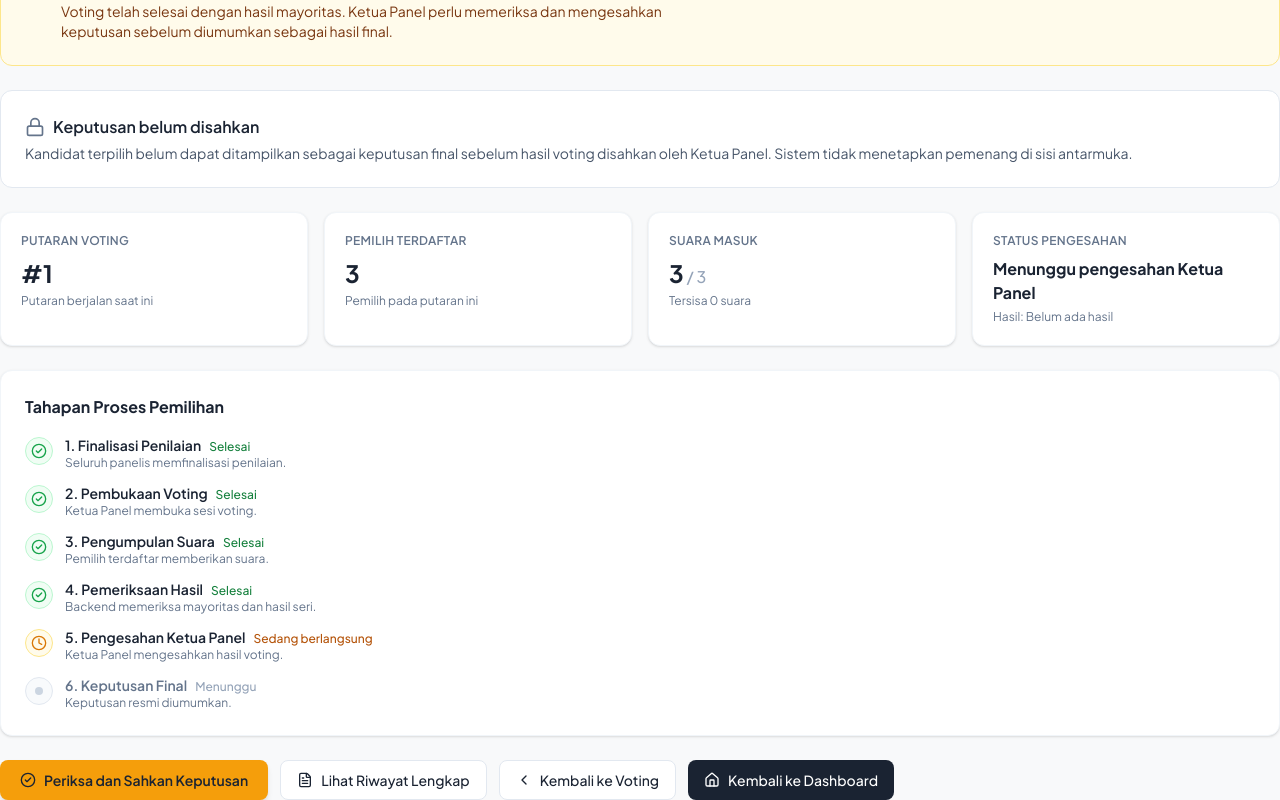
Test case: FinalDecisionPage › mengesahkan keputusan sekali dengan alasan, menampilkan notifikasi sukses, lalu menutup modal
(page scrolled)
Click the button "Periksa dan Sahkan Keputusan": (134, 780) [0,760,268,799]
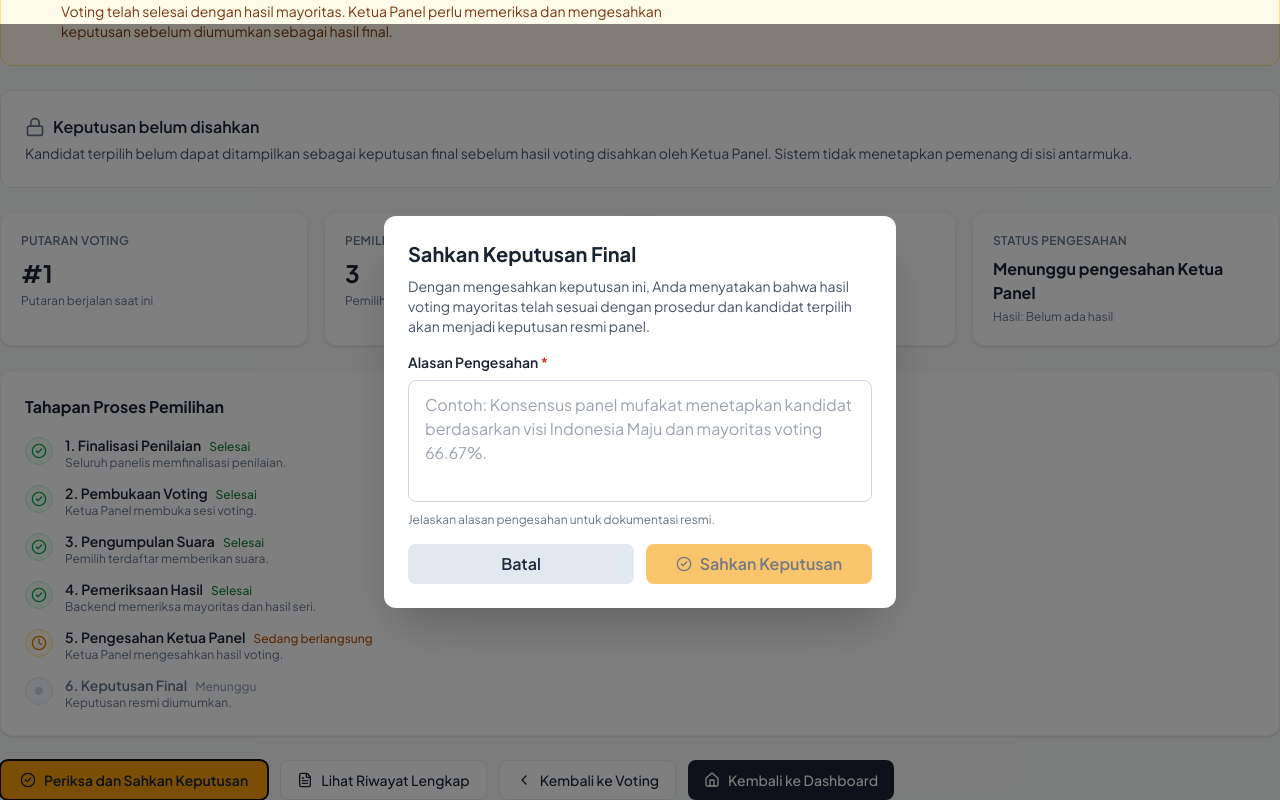
In the text box labelled "Alasan Pengesahan *": (640, 441) [408,380,872,502], type "Konsensus panel tercapai."
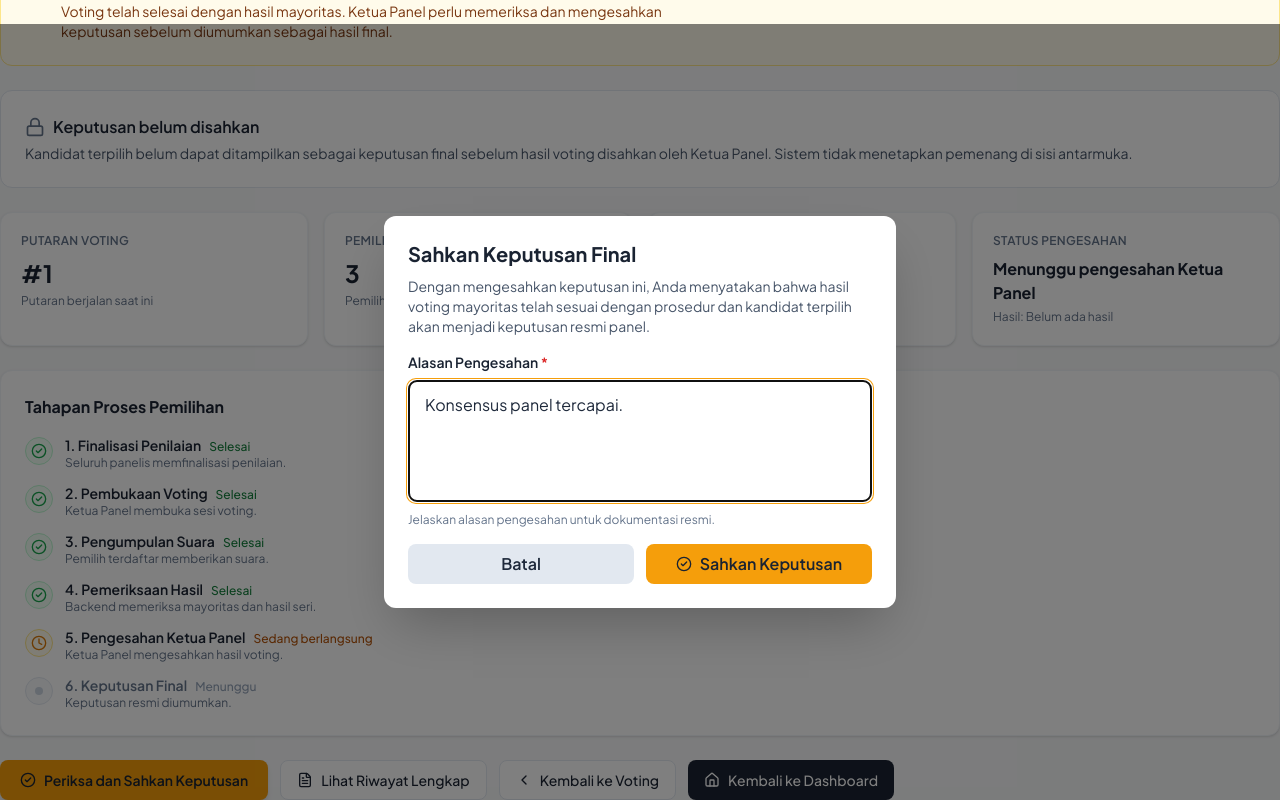
Click the button "Sahkan Keputusan": (759, 564) [646,544,872,584]
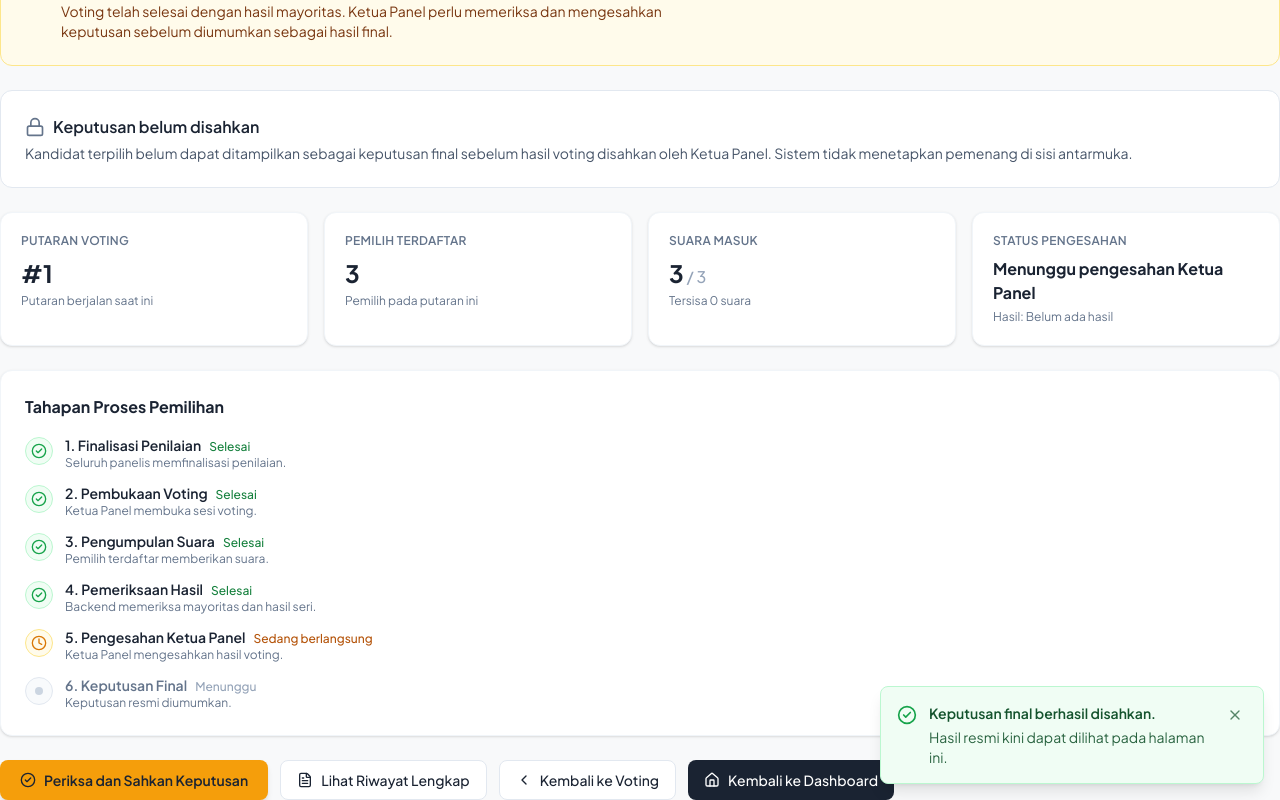
Expected: the text "Keputusan final berhasil disahkan." is shown, [929,704,1156,722]
Expected: the dialog is gone
